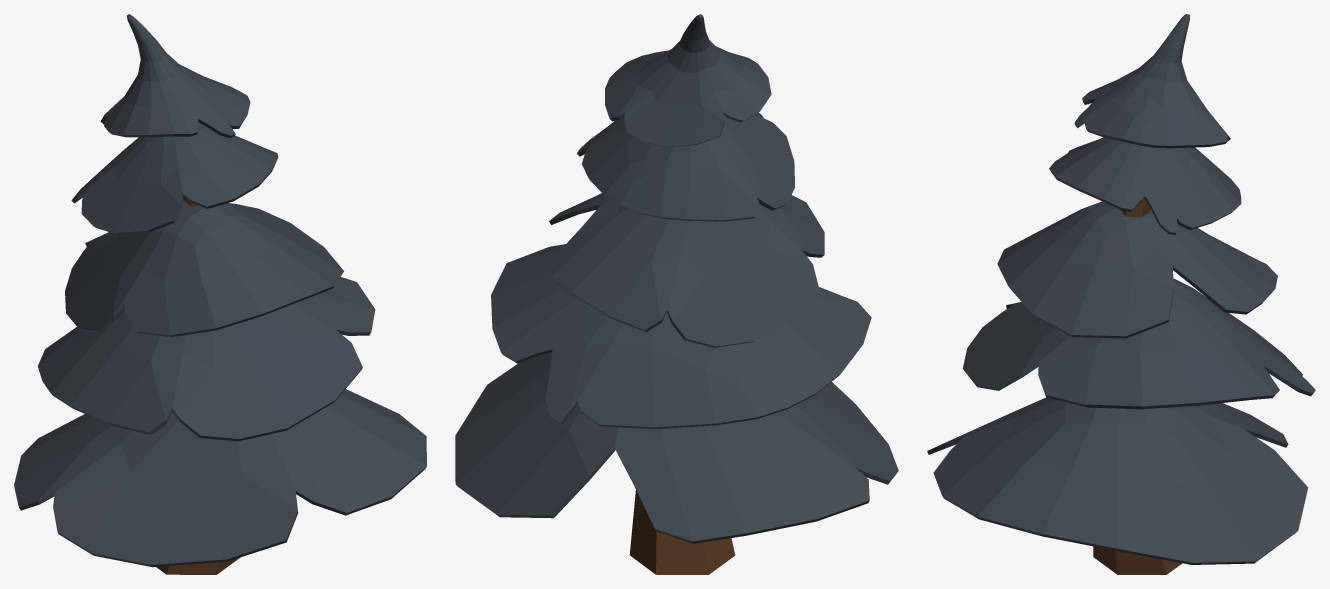
Rendered from cc0-pine-tree-lod1.glb.
3 views of the same model, side by side, from view 1: azimuth 30°, elevation 25°; view 2: azimuth 150°, elevation 25°; view 3: azimuth 270°, elevation 25° (orthographic). The views are drawn at different scales.
Visible parts, largest first — view 1: part_0; view 2: part_0; view 3: part_0.
Part boxes in pixels (box(x1,y1,x2,y2)): part_0: box(14, 14, 426, 574); part_0: box(455, 14, 898, 574); part_0: box(927, 14, 1315, 574).
Size of the model in its own units: 1.96 by 2.7 by 1.82.
